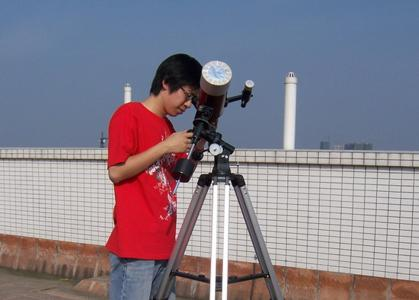person: (105, 53, 207, 300)
